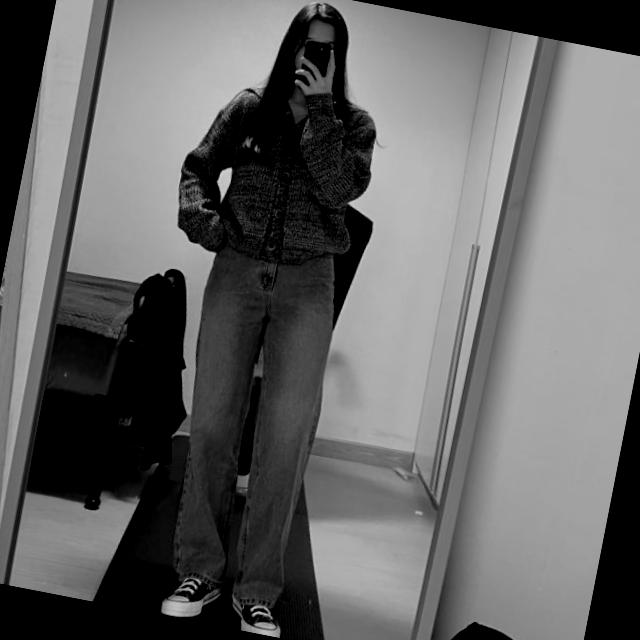cardigan: (168, 66, 386, 282)
denimpants: (146, 226, 353, 612)
